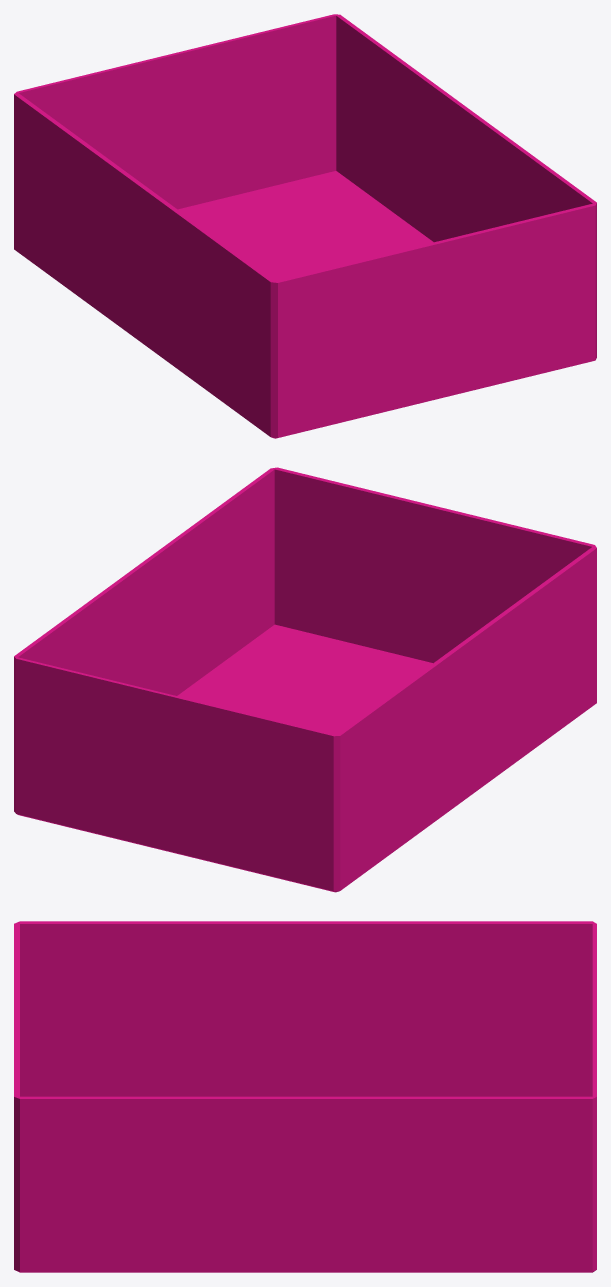
3 views of the same model, one above another, from view 1: azimuth 30°, elevation 25°; view 2: azimuth 150°, elevation 25°; view 3: azimuth 270°, elevation 25° (orthographic). The views are drawn at different scales.
Visible parts, largest first — view 1: bin-pink; view 2: bin-pink; view 3: bin-pink.
Part boxes in pixels (x1,y1,x2,y2): bin-pink: (14,14,596,438); bin-pink: (14,467,596,892); bin-pink: (14,921,596,1272).
Bounding box in the file's own units: 0.3914 × 0.543 × 0.1808.
